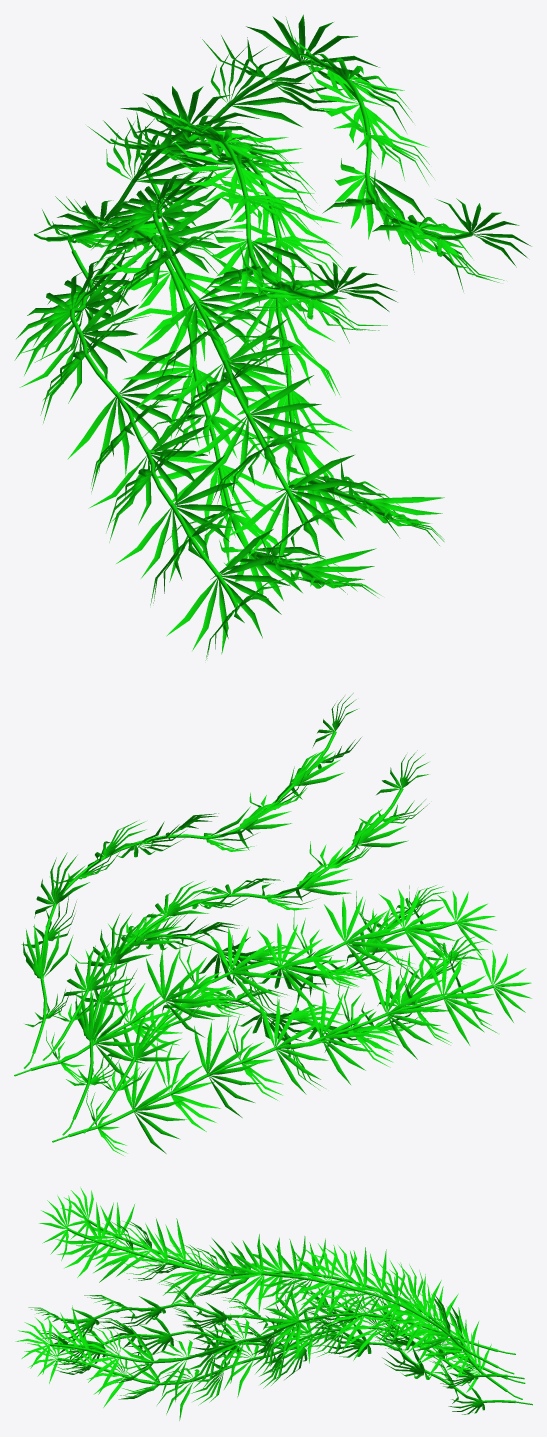
Rendered from weed2.obj.
The picture shows the model from 3 angles, top to bottom: view 1: azimuth 30°, elevation 25°; view 2: azimuth 150°, elevation 25°; view 3: azimuth 270°, elevation 25°; orthographic projection. The views are drawn at different scales.
Bounding box in the file's own units: 46.17 × 41.85 × 80.48.
